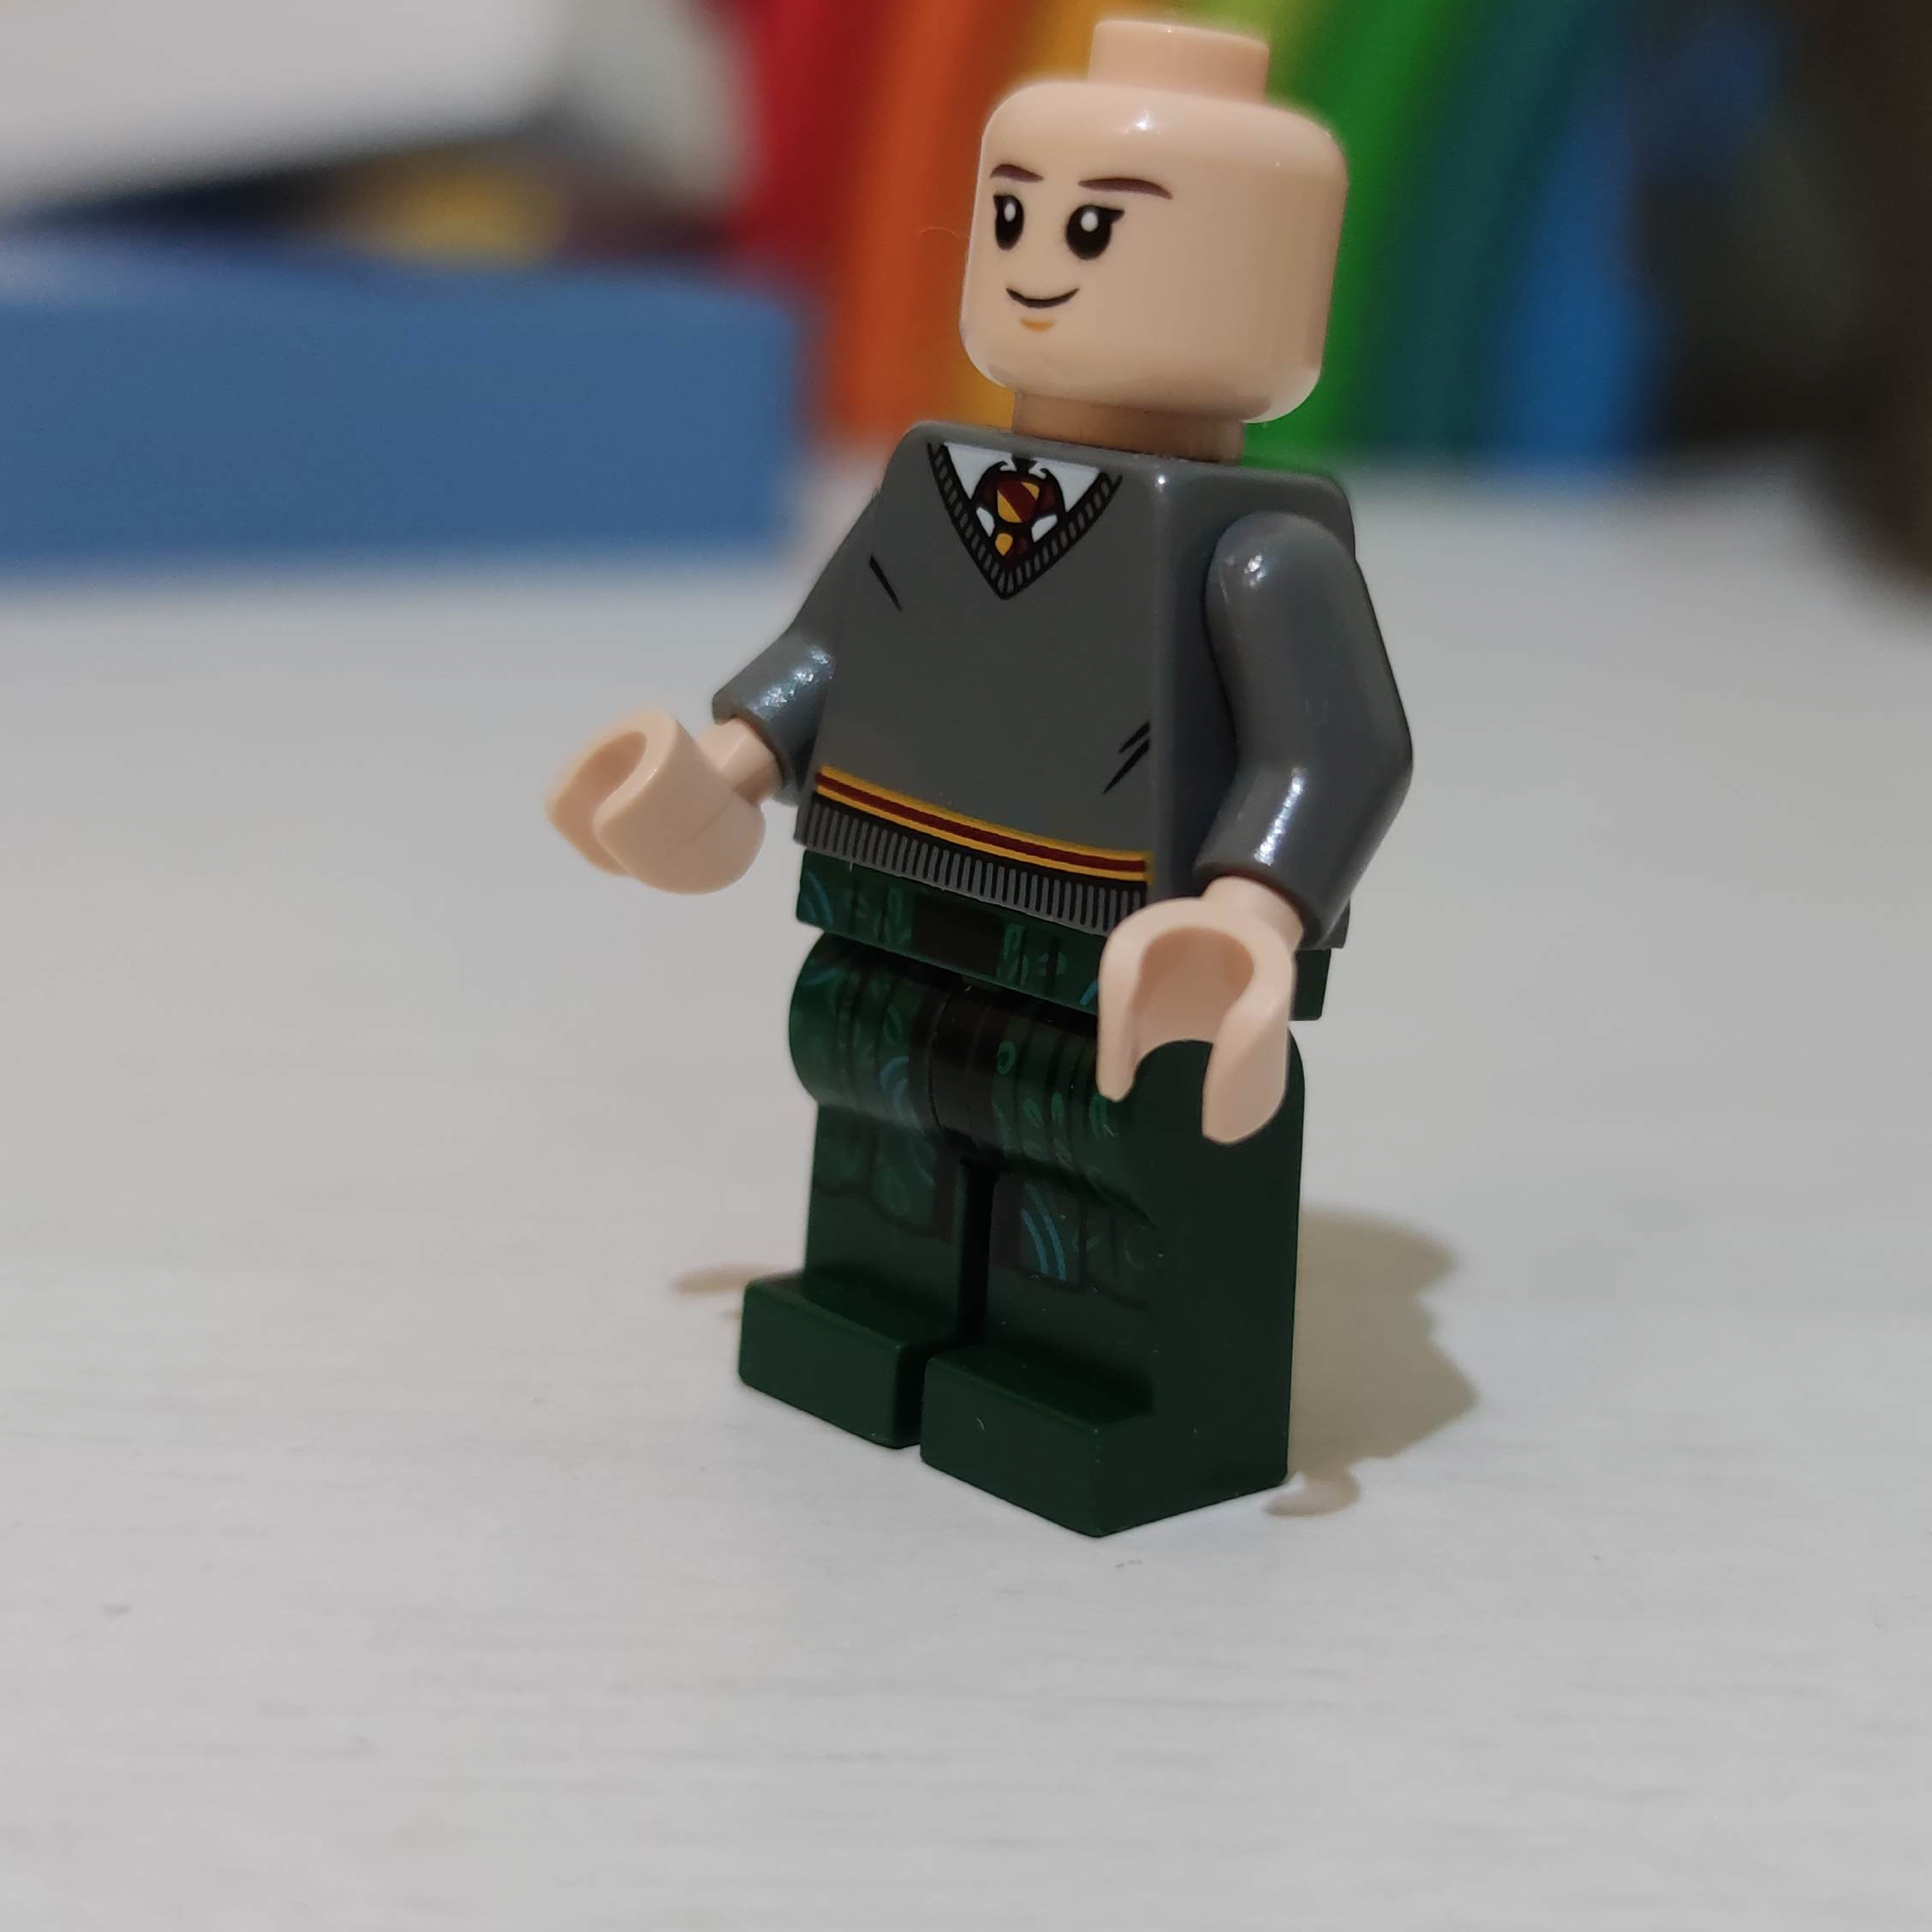lego: (552, 19, 1412, 1541)
